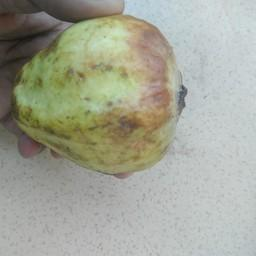Bad_guava: (8, 13, 187, 175)
